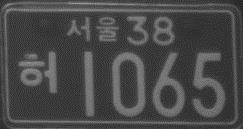0: (110, 50, 147, 118)
1: (79, 47, 99, 118)
3: (124, 14, 149, 47)
5: (191, 51, 228, 118)
6: (151, 51, 187, 119)
8: (152, 16, 175, 47)
서울_O: (66, 14, 120, 43)
허: (18, 49, 59, 95)
